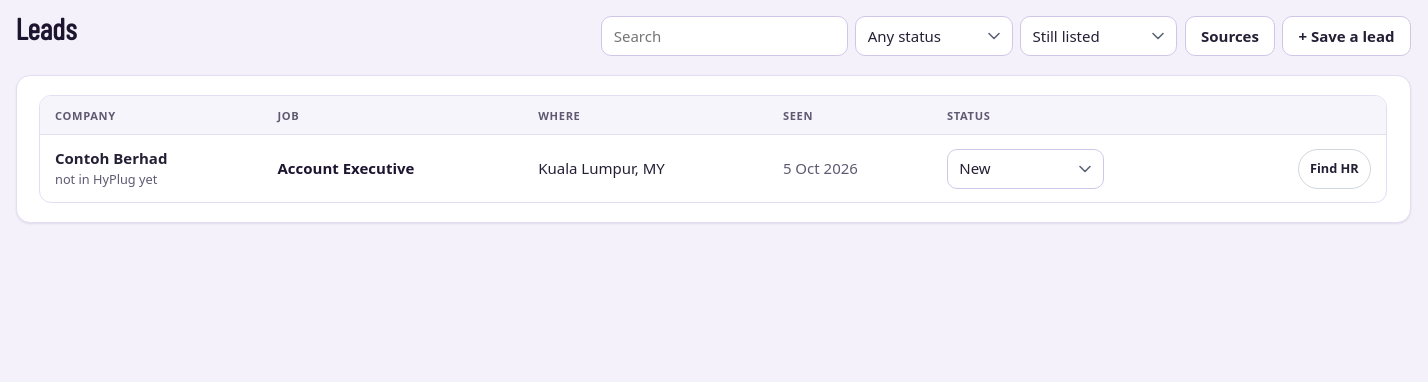
leads › reads the lead again when a link fails, so trying again sends its current version even where the filter hides it
Later steps or results of the test are not shown.
Click the button with aria-label "Find HR for Contoh Berhad": (1334, 169) top-left (1298, 149), bottom-right (1371, 189)
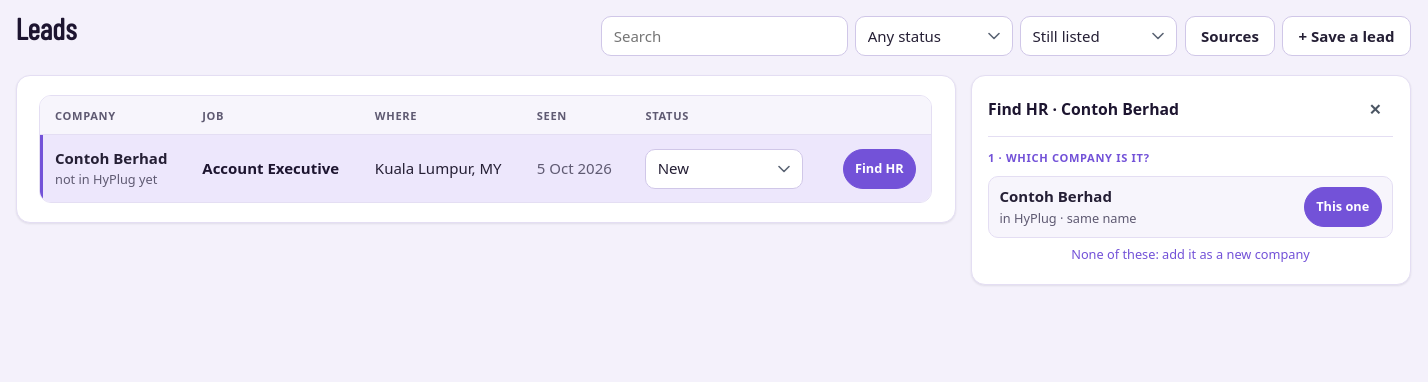
Click the button with aria-label "This one: Contoh Berhad": (1343, 207) top-left (1304, 187), bottom-right (1382, 227)
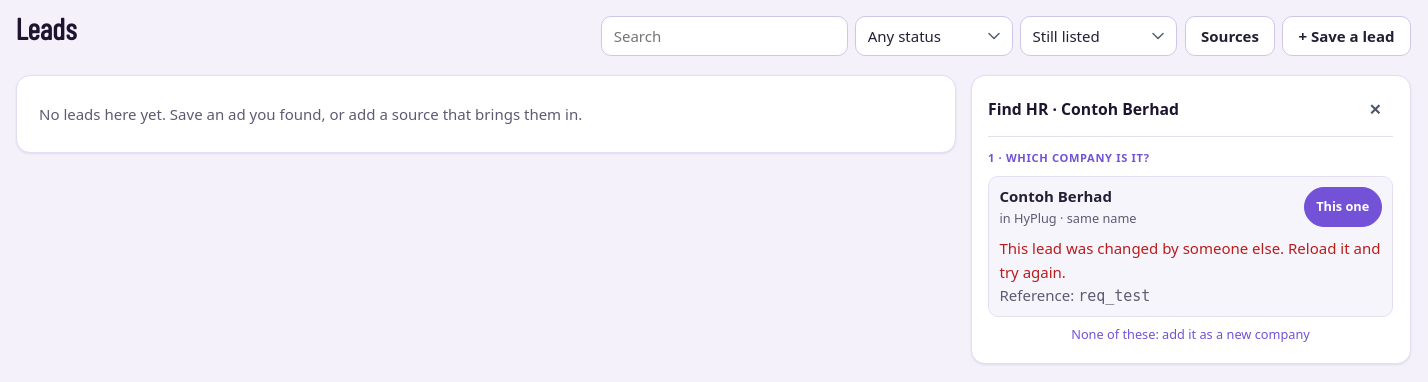
expect the text "changed by someone else" is shown: met, box top-left (1000, 238), bottom-right (1380, 282)
